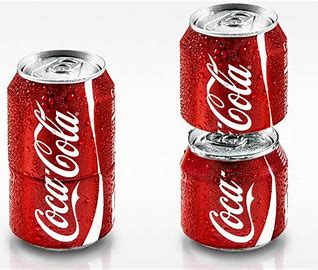Coke: (6, 48, 121, 258)
